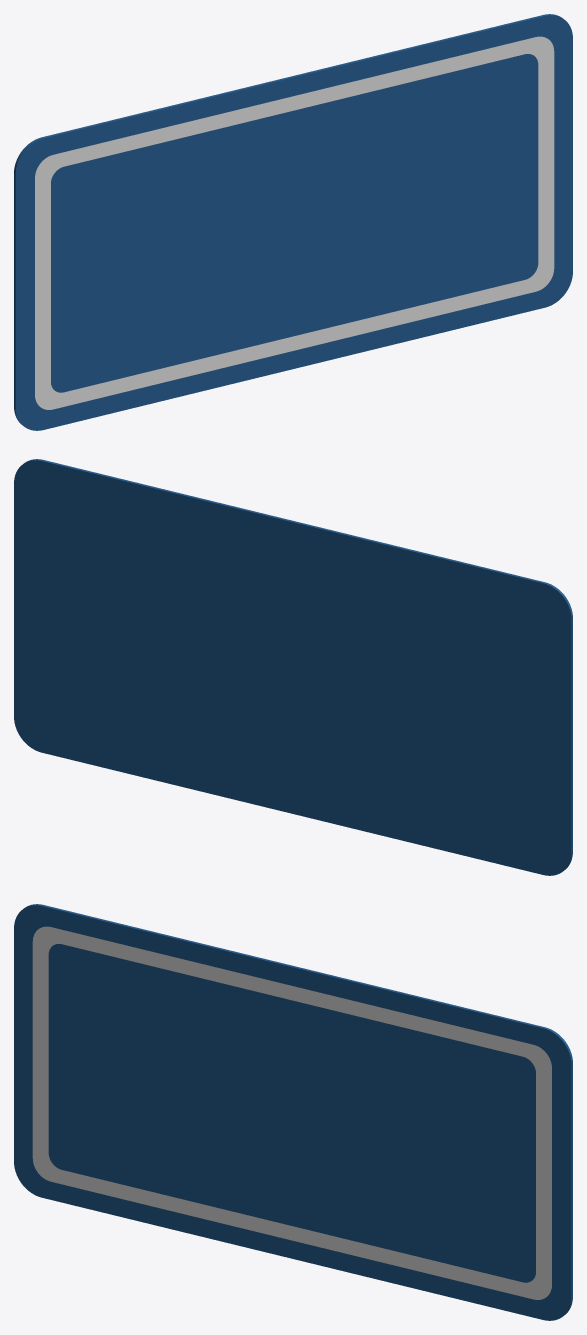
Rendered from roadsign.fbx.
3 views of the same model, one above another, from view 1: azimuth 30°, elevation 25°; view 2: azimuth 150°, elevation 25°; view 3: azimuth 330°, elevation 25° (orthographic).
Parts seen in each view (by area): view 1: Cube, Border; view 2: Cube; view 3: Cube, Border.
Boxes of the visible parts, x1,y1,x2,y2 form: Cube: (14,14,572,430); Border: (35,36,554,409); Cube: (14,459,572,875); Cube: (14,904,572,1320); Border: (32,926,551,1299).
Bounding box in the file's own units: 400 × 200 × 2.36.
